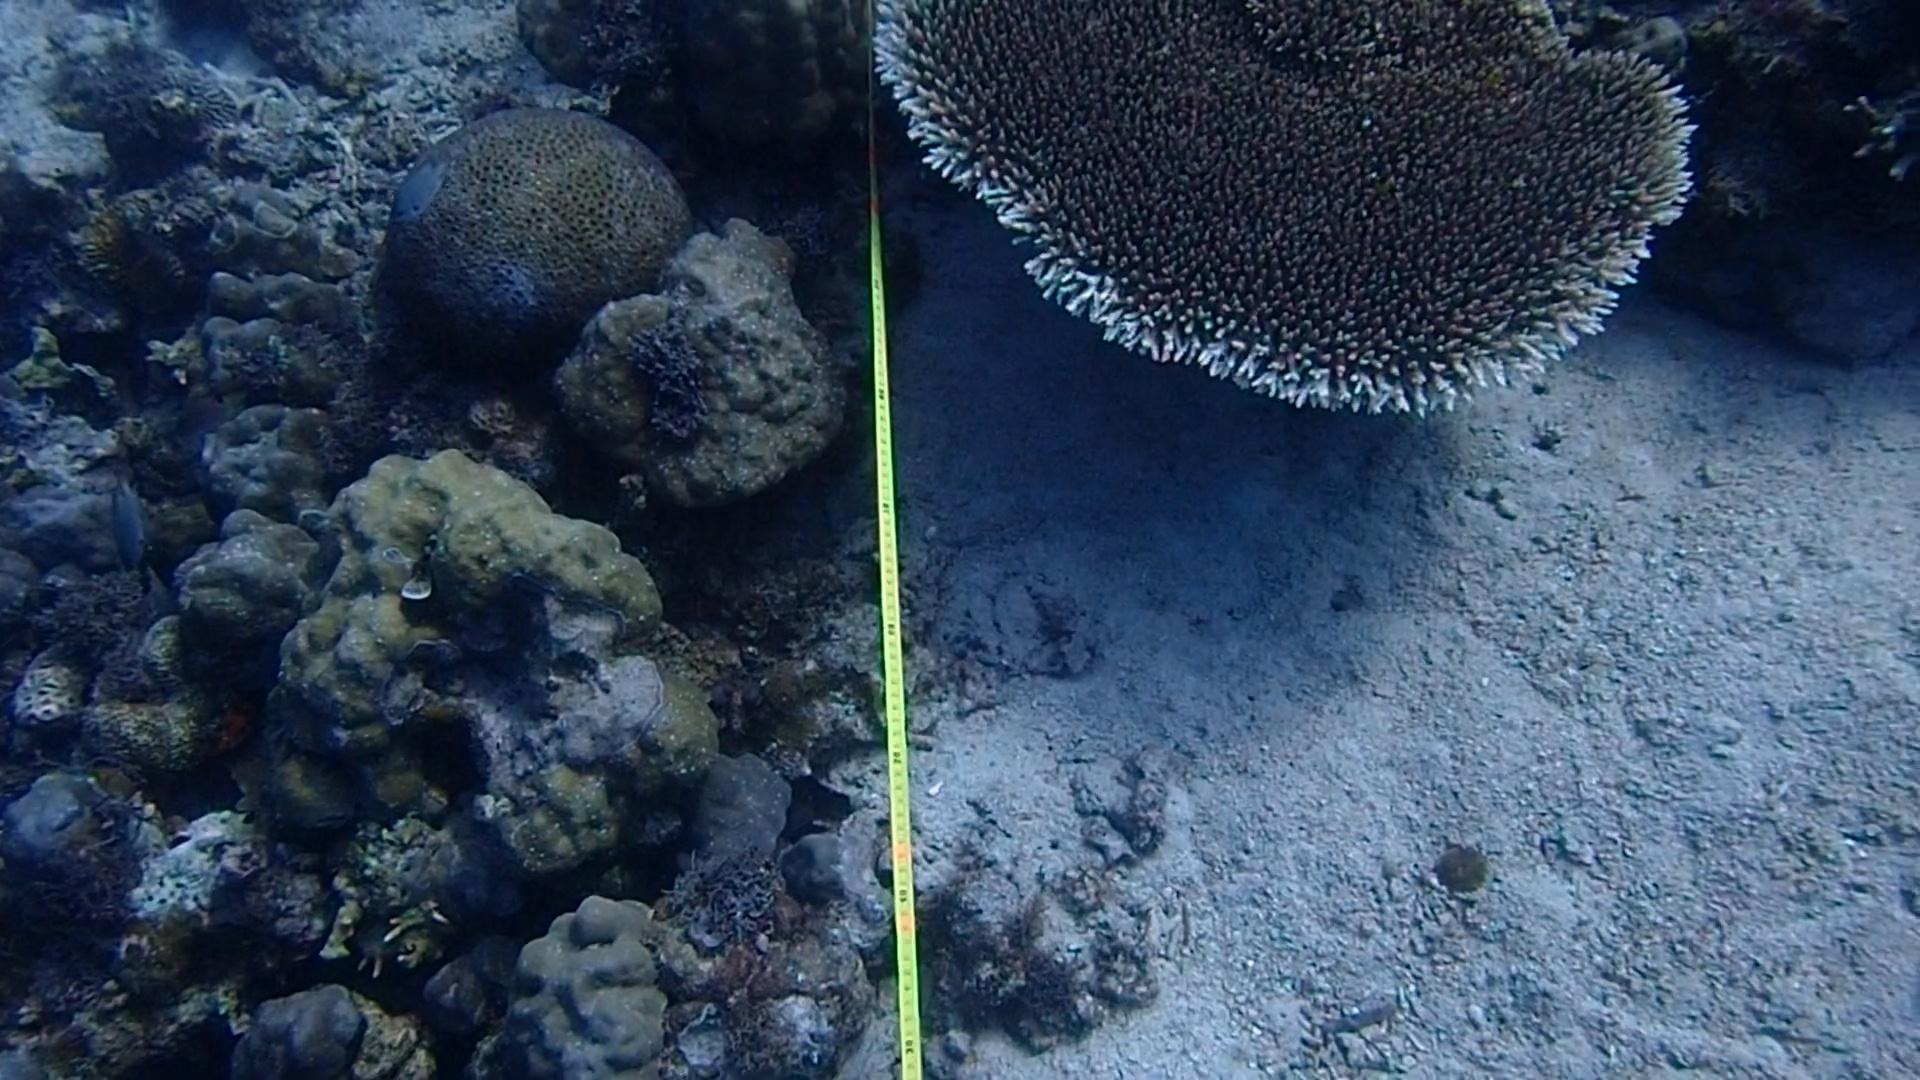Light Fish: (384, 117, 475, 228)
